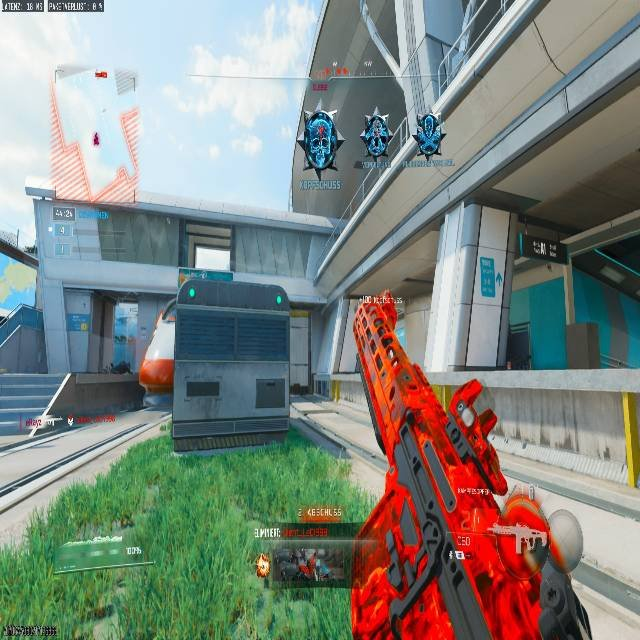head: (422, 115, 436, 130)
player: (413, 114, 446, 163), (360, 113, 391, 160)
